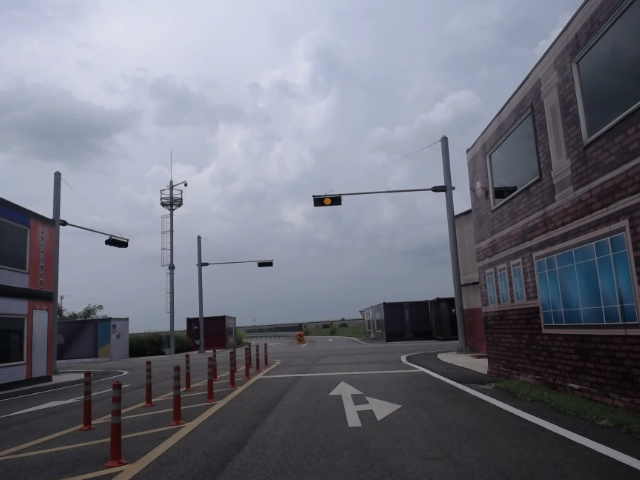orange_3: (313, 195, 342, 206)
